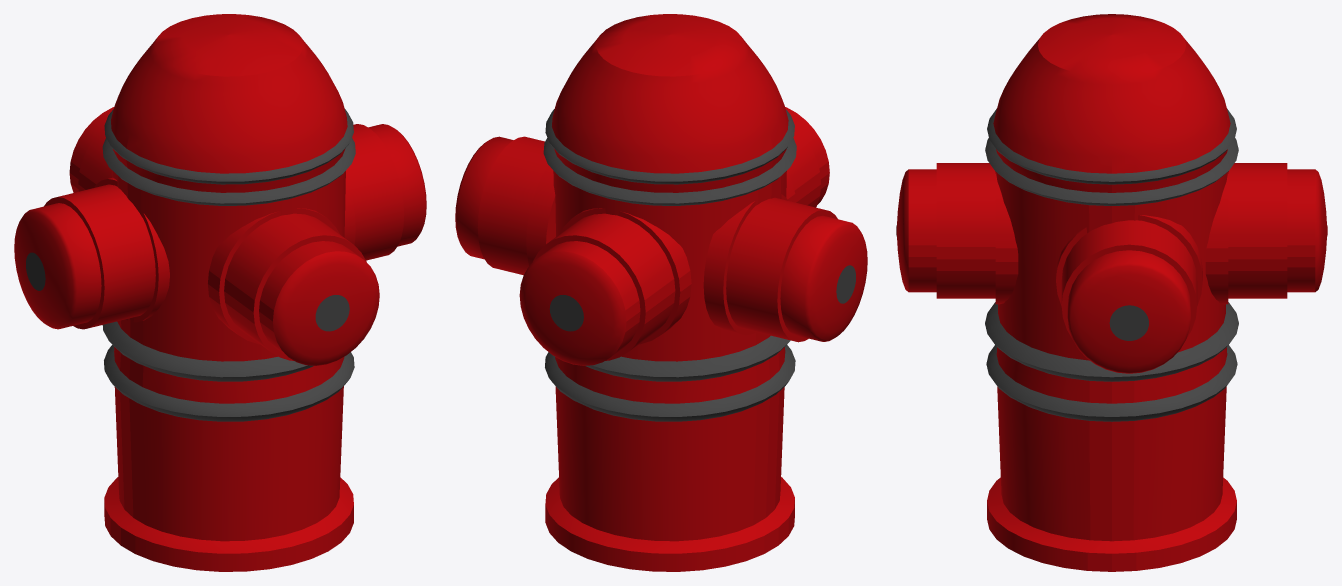
The model's file is Bidón (2).fbx.
3 views of the same model, side by side, from view 1: azimuth 30°, elevation 25°; view 2: azimuth 150°, elevation 25°; view 3: azimuth 270°, elevation 25° (orthographic).
Parts seen in each view (by area): view 1: Cylinder.004; view 2: Cylinder.004; view 3: Cylinder.004.
Part boxes in pixels (x1,y1,x2,y2): Cylinder.004: (14, 14, 426, 571); Cylinder.004: (455, 14, 867, 571); Cylinder.004: (896, 14, 1327, 571).
Size of the model in its own units: 341 by 427 by 345.
